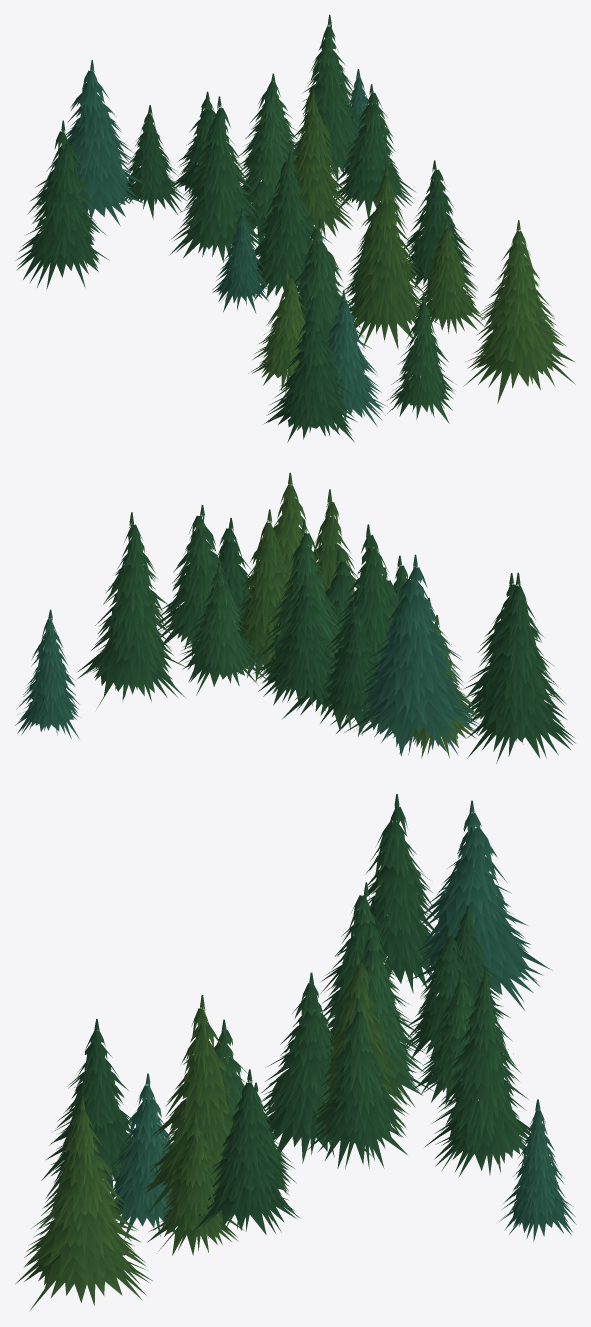
File: pine_4.glb
3 views of the same model, one above another, from view 1: azimuth 30°, elevation 25°; view 2: azimuth 150°, elevation 25°; view 3: azimuth 270°, elevation 25° (orthographic). The views are drawn at different scales.
Parts seen in each view (by area): view 1: pine_4; view 2: pine_4; view 3: pine_4.
Part boxes in pixels (bbox=[...]): pine_4: bbox=[15, 14, 575, 442]; pine_4: bbox=[15, 472, 575, 763]; pine_4: bbox=[15, 794, 576, 1311].
Size of the model in its own units: 37.28 by 23.97 by 34.59.
1 material, 1 textured.
